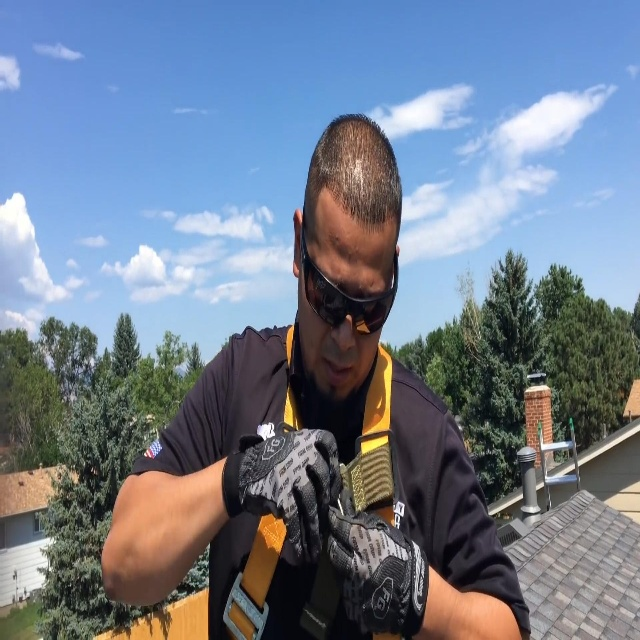Arnes_seguridad: (201, 290, 430, 640)
